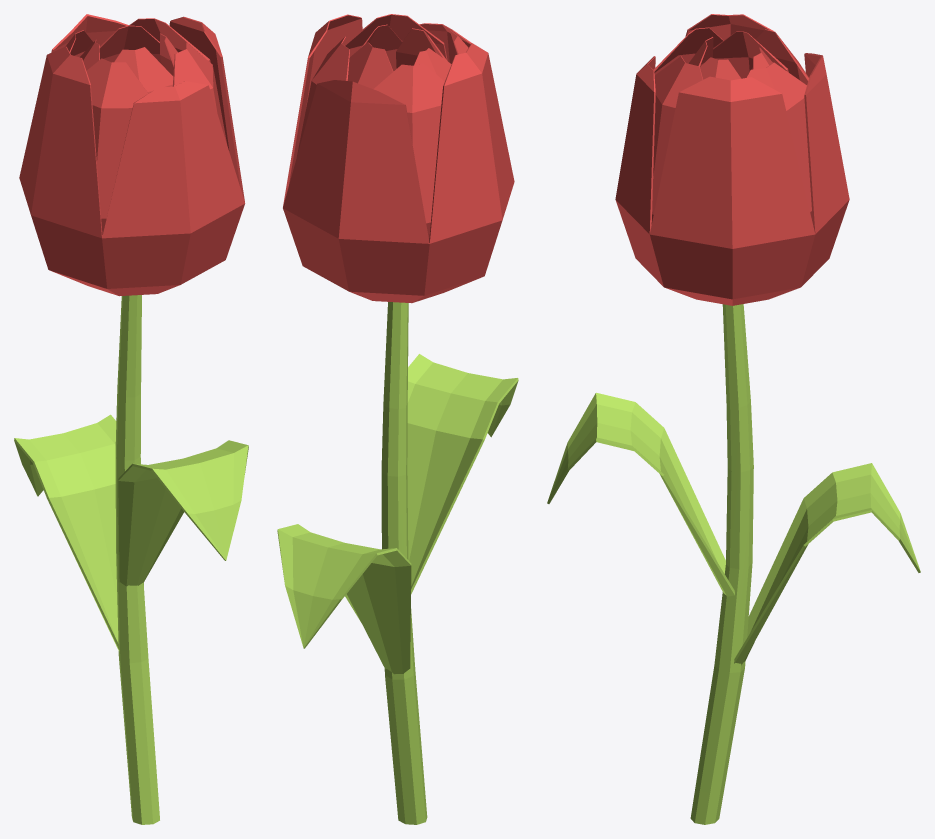
Rendered from tulip.fbx.
3 views of the same model, side by side, from view 1: azimuth 30°, elevation 25°; view 2: azimuth 150°, elevation 25°; view 3: azimuth 270°, elevation 25° (orthographic). The views are drawn at different scales.
Parts seen in each view (by area): view 1: tulip; view 2: tulip; view 3: tulip.
Boxes of the visible parts, bbox=[...] form: tulip: bbox=[14, 14, 248, 824]; tulip: bbox=[277, 14, 518, 824]; tulip: bbox=[547, 14, 920, 824].
Size of the model in its own units: 294 by 1074 by 470.
